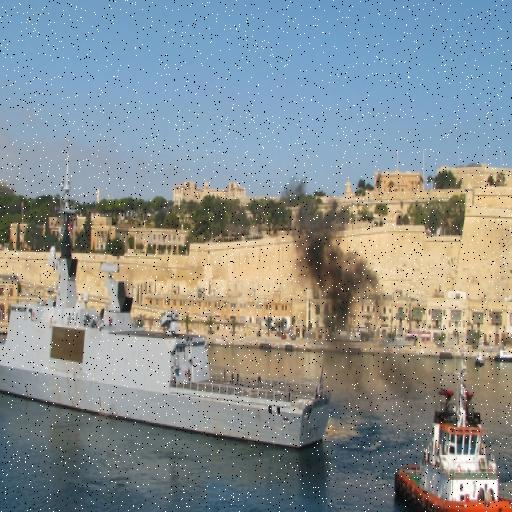Fragata: (1, 145, 335, 456)
